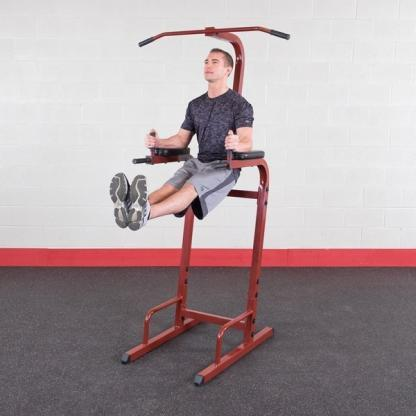chinning dipping: (119, 25, 291, 386)
